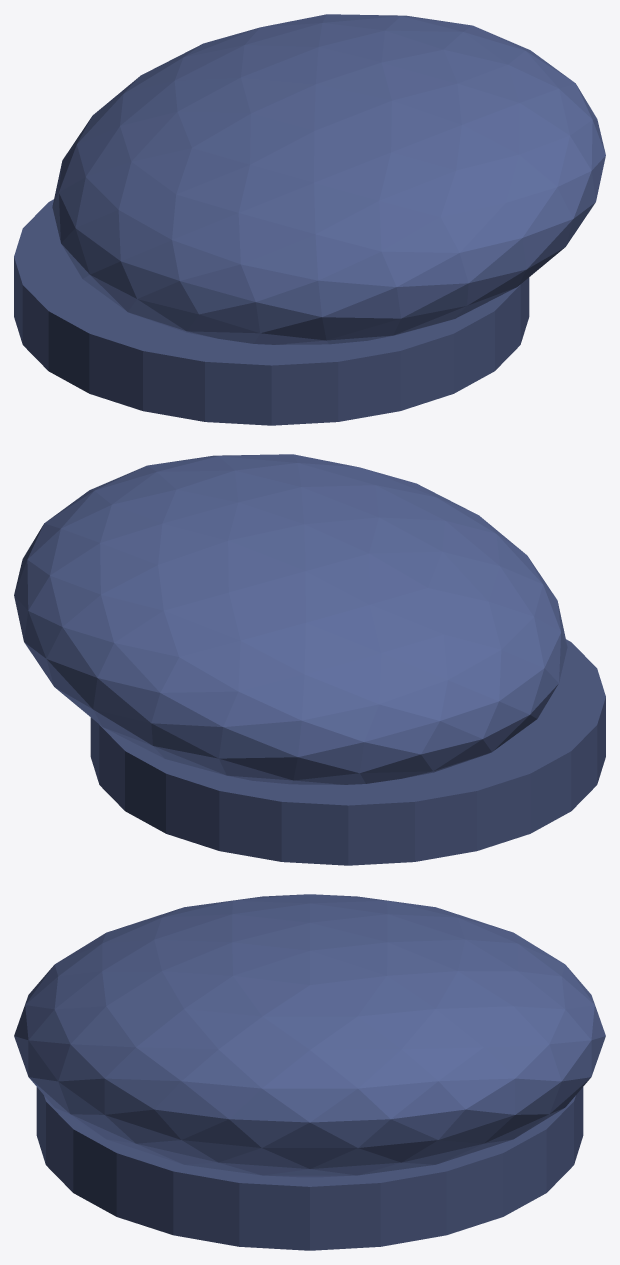
Rendered from navy_beret.glb.
3 renders of one model, top to bottom at view 1: azimuth 30°, elevation 25°; view 2: azimuth 150°, elevation 25°; view 3: azimuth 270°, elevation 25°, orthographic. The views are drawn at different scales.
Visible parts, largest first — view 1: beret_crown, beret_band; view 2: beret_crown, beret_band; view 3: beret_crown, beret_band.
Part boxes in pixels (<box>): beret_crown: <box>52,14,605,344</box>; beret_band: <box>14,199,529,425</box>; beret_crown: <box>14,454,567,784</box>; beret_band: <box>90,639,605,865</box>; beret_crown: <box>14,894,605,1177</box>; beret_band: <box>36,1087,583,1250</box>.
Bounding box in the file's own units: 0.226 × 0.0945 × 0.21.
